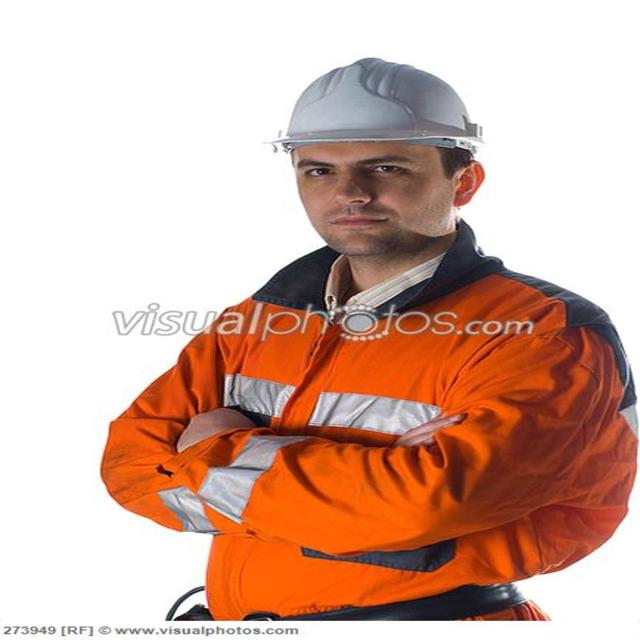Face: (283, 121, 467, 258)
